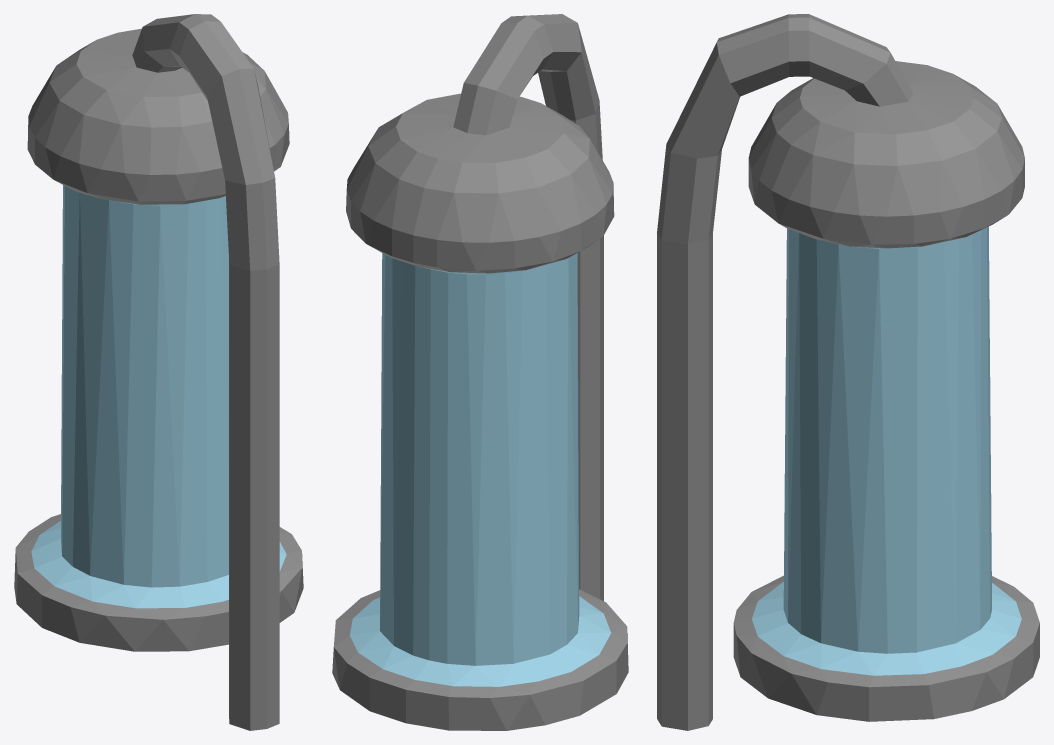
File: waterpump.fbx
The picture shows the model from 3 angles, left to right: view 1: azimuth 30°, elevation 25°; view 2: azimuth 150°, elevation 25°; view 3: azimuth 270°, elevation 25°; orthographic projection. The views are drawn at different scales.
Visible parts, largest first — view 1: Pompa z wodą; view 2: Pompa z wodą; view 3: Pompa z wodą.
Part boxes in pixels (x1,y1,x2,y2): Pompa z wodą: (14, 14, 303, 730); Pompa z wodą: (332, 14, 628, 730); Pompa z wodą: (657, 14, 1039, 730).
Bounding box in the file's own units: 215 × 546 × 270.
